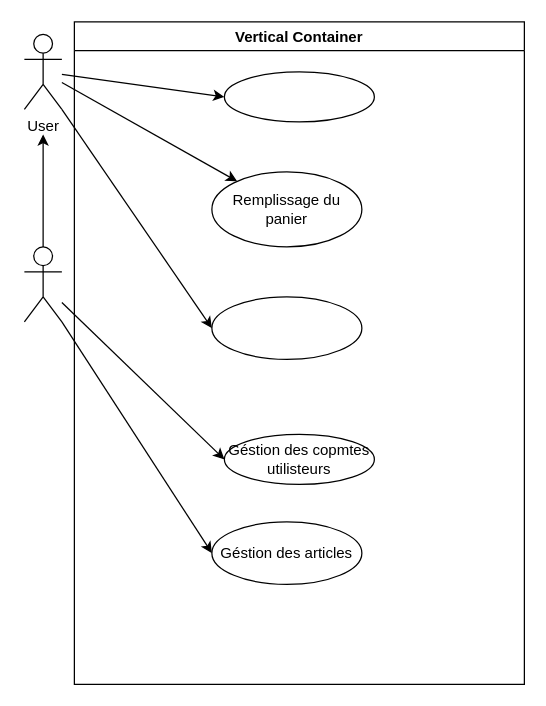
The diagram is 546 pixels wide and 706 high, and some of its shapes have lost their labels. Each missing label, with the centre of its shape:
Admin: the point at 42,284
Consultation du catalogue: the point at 298,96
Payment en ligne: the point at 286,327
